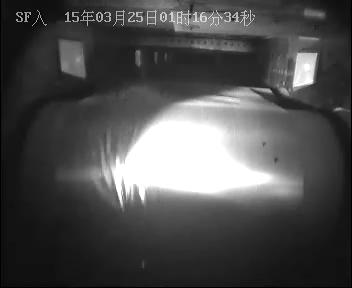wrinkled steel: (94, 121, 150, 214)
